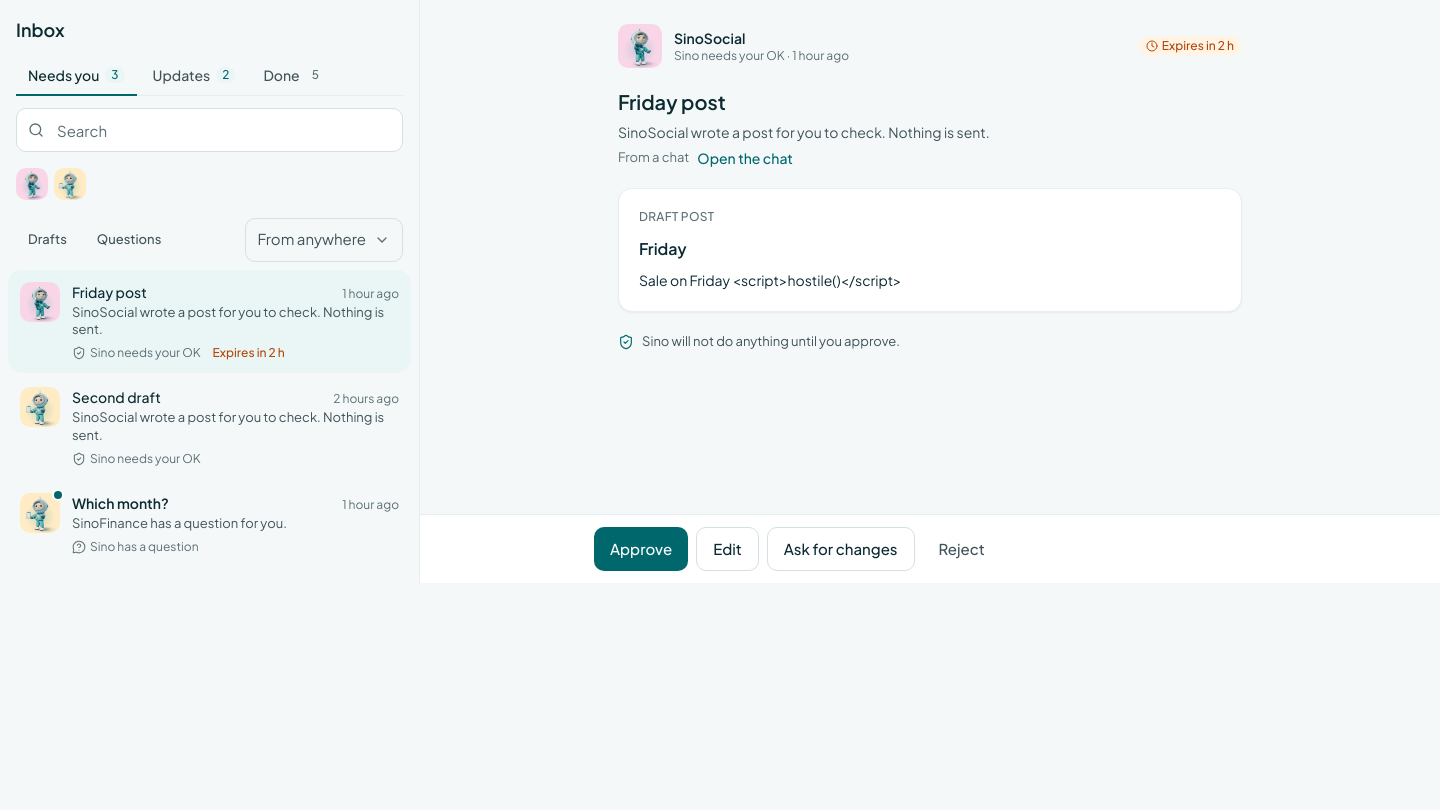
deciding a draft › shows the result at once, then replaces it with the server record
Click the button "Approve".
click(641, 549)  # box [594,527,688,571]
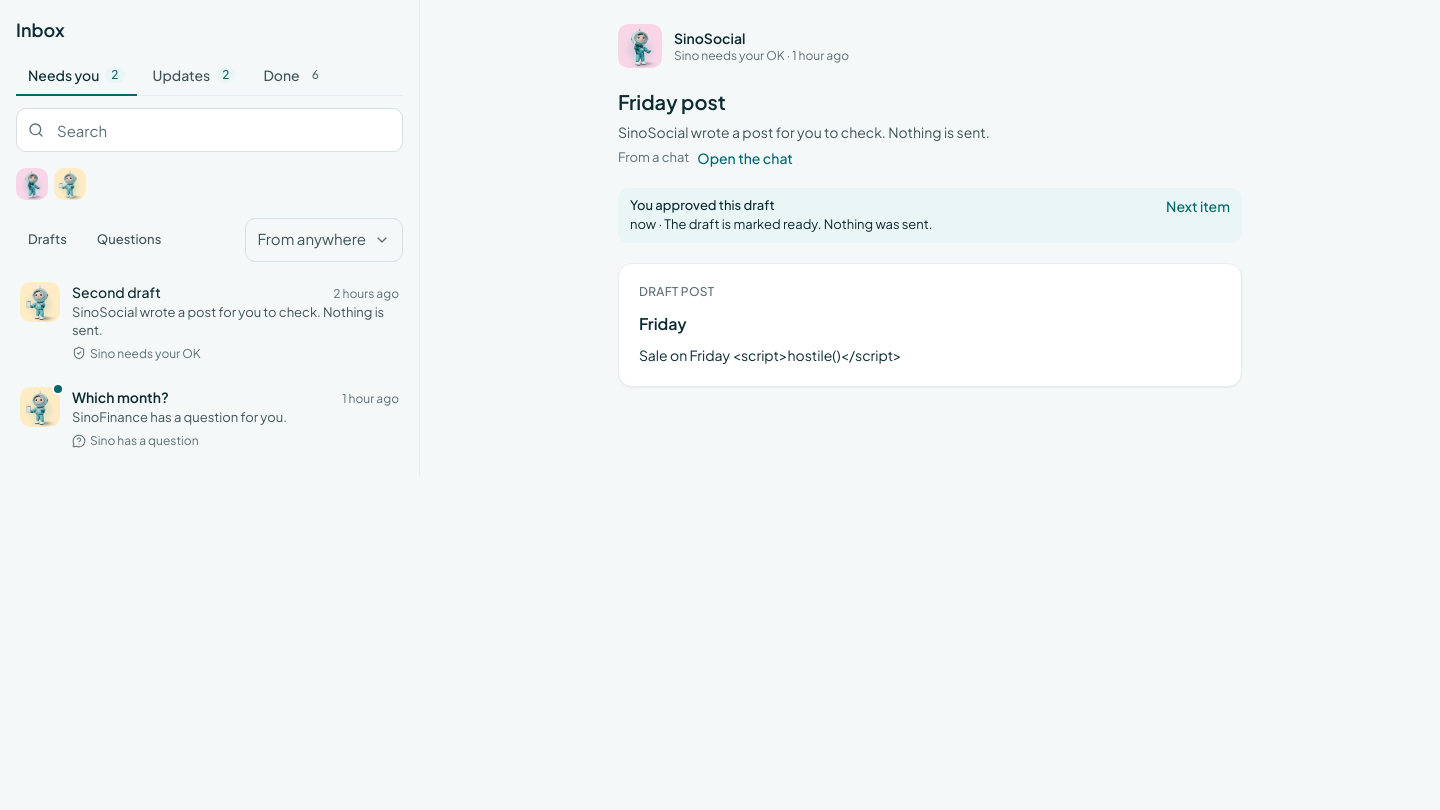
expect the link "Needs you 2" is shown: met, box [16,56,136,96]
expect the text "You approved this draft" is shown: met, box [630,196,775,212]
